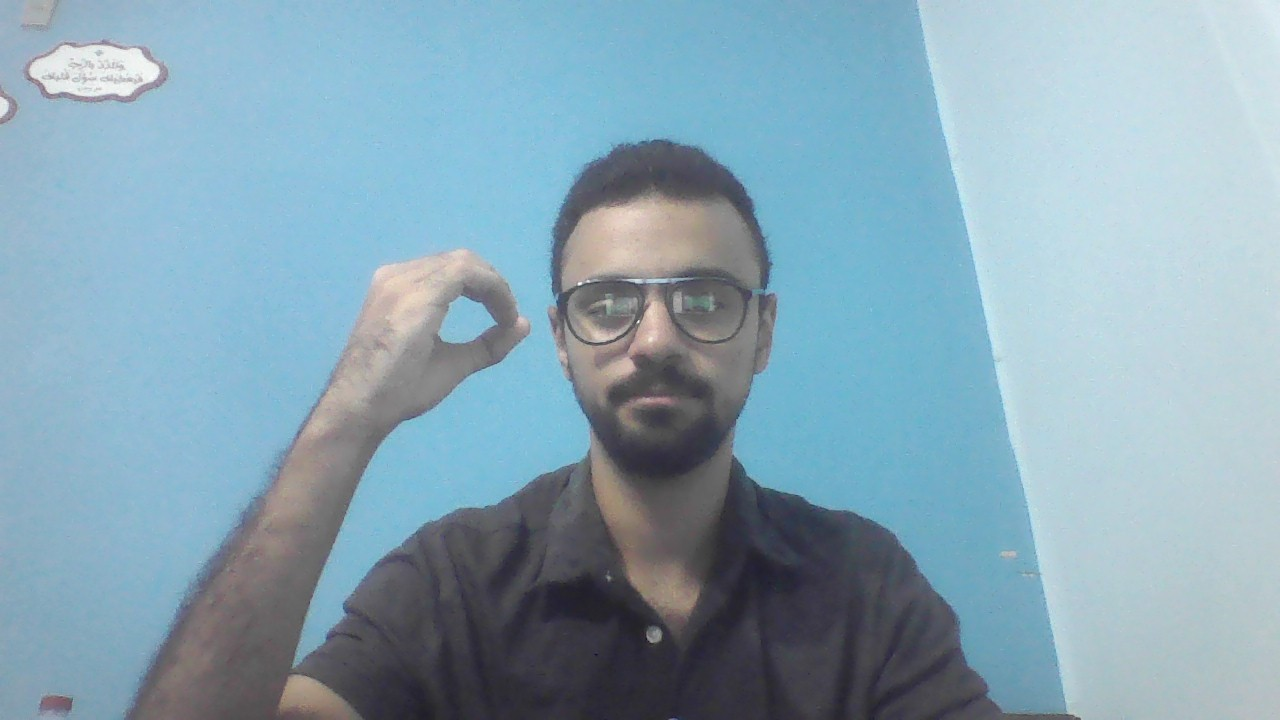okay: (338, 251, 529, 415)
